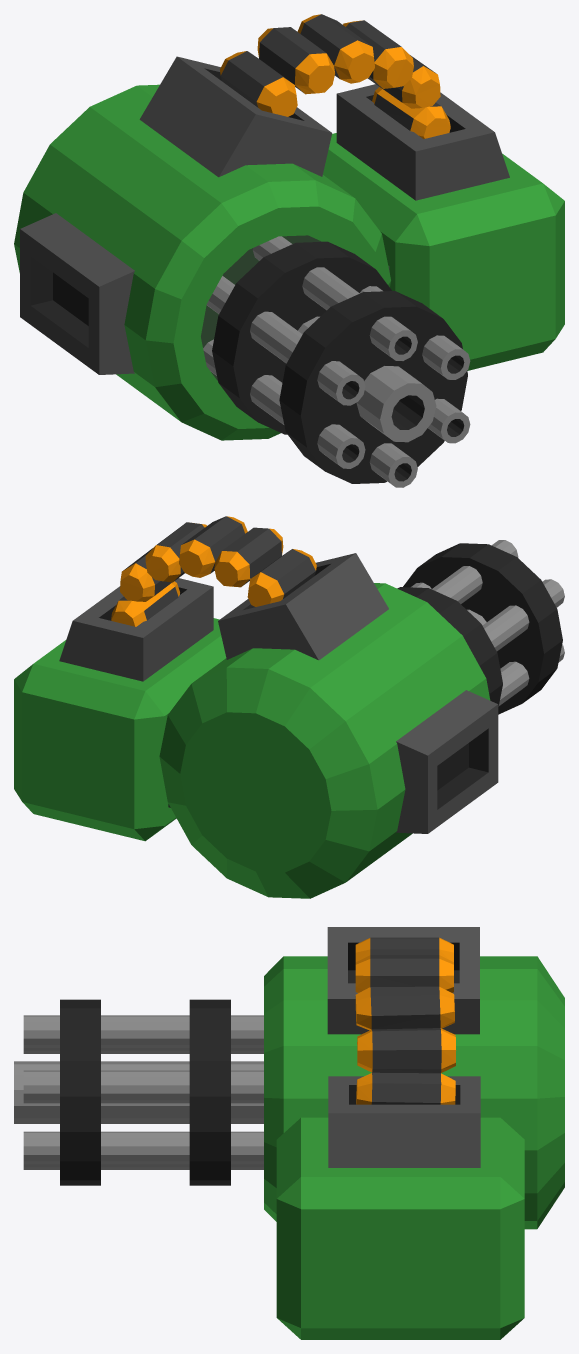
Rendered from machinegun_cannon.fbx.
3 renders of one model, top to bottom at view 1: azimuth 30°, elevation 25°; view 2: azimuth 150°, elevation 25°; view 3: azimuth 270°, elevation 25°, orthographic. The views are drawn at different scales.
Parts seen in each view (by area): view 1: Cylinder.006, Cube.028, Cylinder.009, Cylinder.010, Cube.026, Cube.027, Cylinder.007, Circle.009, Circle.008, Circle.003, Circle.006, Circle.005 (+2 smaller); view 2: Cylinder.006, Cube.028, Cylinder.010, Cube.026, Cube.027, Cylinder.009, Cylinder.007, Circle.008, Circle.003, Circle.006; view 3: Cube.028, Cylinder.006, Cylinder.010, Cylinder.007, Cylinder.009, Cube.027, Circle.009, Circle.005, Circle.007, Circle.003, Circle.004, Circle.008.
Part boxes in pixels (x1,y1,x2,y2): Cylinder.006: [14, 84, 390, 440]; Cube.028: [323, 84, 564, 370]; Cylinder.009: [279, 291, 467, 483]; Cylinder.010: [220, 14, 450, 138]; Cube.026: [20, 213, 134, 374]; Cube.027: [139, 56, 332, 177]; Cylinder.007: [212, 241, 391, 434]; Circle.009: [298, 316, 436, 442]; Circle.008: [206, 276, 365, 405]; Circle.003: [253, 236, 417, 360]; Circle.006: [203, 339, 365, 468]; Circle.005: [360, 286, 470, 379]; Cylinder.006: [159, 583, 490, 898]; Cube.028: [14, 578, 226, 841]; Cylinder.010: [111, 516, 316, 626]; Cube.026: [396, 690, 498, 833]; Cube.027: [218, 553, 388, 660]; Cylinder.009: [403, 543, 562, 714]; Cylinder.007: [397, 587, 502, 706]; Circle.008: [482, 579, 564, 651]; Circle.003: [432, 540, 518, 603]; Circle.006: [498, 644, 564, 706]; Cube.028: [276, 1076, 524, 1339]; Cylinder.006: [264, 956, 564, 1229]; Cylinder.010: [355, 937, 456, 1104]; Cylinder.007: [189, 999, 230, 1185]; Cylinder.009: [60, 999, 100, 1185]; Cube.027: [327, 927, 479, 1034]; Circle.009: [14, 1061, 263, 1123]; Circle.005: [23, 1070, 263, 1103]; Circle.007: [23, 1131, 263, 1164]; Circle.003: [23, 1015, 263, 1047]; Circle.004: [23, 1164, 263, 1169]; Circle.008: [23, 1048, 263, 1053].
Size of the model in its own units: 118 by 82.6 by 129.
